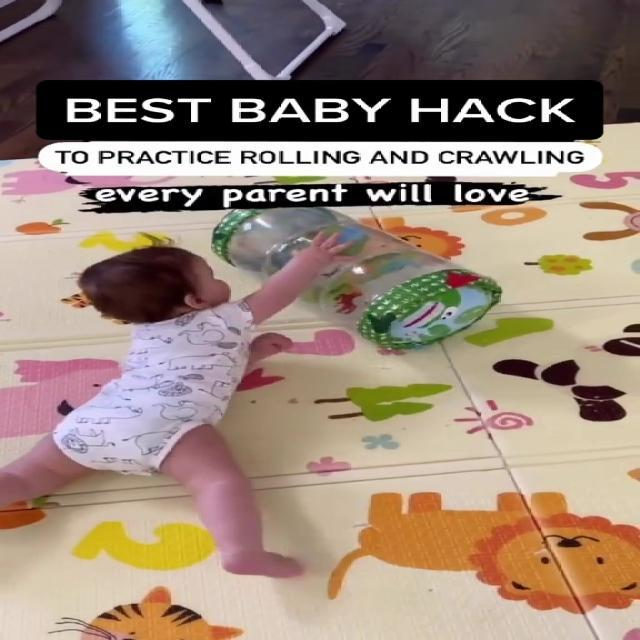baby: (0, 228, 383, 592)
